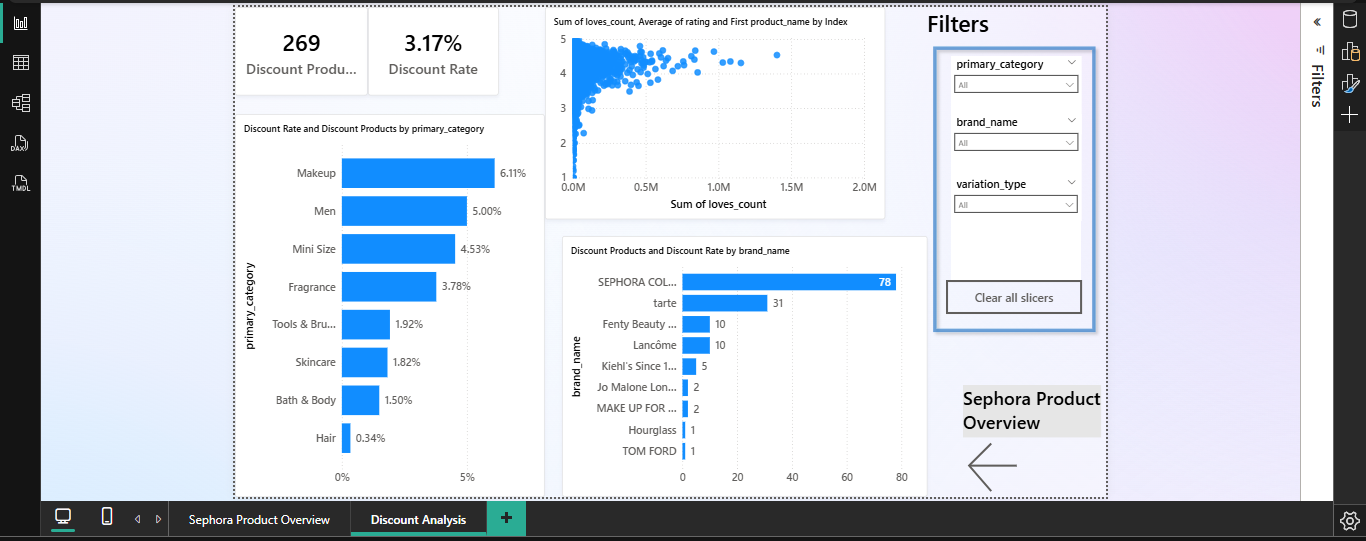

The dashboard page shown, as its layout file describes it:
{"tool":"powerbi","page":{"name":"Discount Analysis","canvas":[1280,720],"ordinal":1},"visuals":[{"type":"card","fields":{"Values":["product_info.discount products"]},"box":[0,0,195,130],"z":0},{"type":"card","fields":{"Values":["product_info.Discount Rate"]},"box":[195,0,191.7,130],"z":1000},{"type":"clusteredBarChart","fields":{"Category":["product_info.primary_category"],"Y":["product_info.Discount Rate"]},"box":[0,156.7,455,563.3],"z":2000},{"type":"clusteredBarChart","fields":{"Category":["product_info.brand_name"],"Y":["product_info.discount products"]},"box":[480,336.7,536.7,383.3],"z":3000},{"type":"scatterChart","fields":{"X":["product_info.loves_count"],"Y":["Avg(product_info.rating)"],"Category":["product_info.Index"]},"box":[455,0,500,311.7],"z":4000},{"type":"actionButton","title":"Sephora Product Overview","box":[1070,555,203.3,165],"z":5000},{"type":"shape","title":"Filters","box":[1016.7,0,256.7,486.7],"z":6000},{"type":"slicer","fields":{"Values":["product_info.primary_category"]},"box":[1052.2,71.7,191.7,115],"z":7000},{"type":"slicer","fields":{"Values":["product_info.brand_name"]},"box":[1051.7,156.7,191.7,156.7],"z":8000},{"type":"slicer","fields":{"Values":["product_info.variation_type"]},"box":[1051.4,248.6,191.4,154.3],"z":9000},{"type":"actionButton","box":[1045,401.7,200,50],"z":10000}]}

Visuals, with their boxes on the page's 1280x720 design canvas (x1, y1, x2, y2). These are canvas units, not pixel positions in the 1366x541 screenshot, which may show the page scaled, cropped or inside an application window:
card - product_info.discount products: {"x1": 0, "y1": 0, "x2": 195, "y2": 130}
card - product_info.Discount Rate: {"x1": 195, "y1": 0, "x2": 387, "y2": 130}
clusteredBarChart - product_info.primary_category x product_info.Discount Rate: {"x1": 0, "y1": 157, "x2": 455, "y2": 720}
clusteredBarChart - product_info.brand_name x product_info.discount products: {"x1": 480, "y1": 337, "x2": 1017, "y2": 720}
scatterChart - product_info.loves_count x Avg(product_info.rating): {"x1": 455, "y1": 0, "x2": 955, "y2": 312}
"Sephora Product Overview" actionButton: {"x1": 1070, "y1": 555, "x2": 1273, "y2": 720}
"Filters" shape: {"x1": 1017, "y1": 0, "x2": 1273, "y2": 487}
slicer - product_info.primary_category: {"x1": 1052, "y1": 72, "x2": 1244, "y2": 187}
slicer - product_info.brand_name: {"x1": 1052, "y1": 157, "x2": 1243, "y2": 313}
slicer - product_info.variation_type: {"x1": 1051, "y1": 249, "x2": 1243, "y2": 403}
actionButton: {"x1": 1045, "y1": 402, "x2": 1245, "y2": 452}
